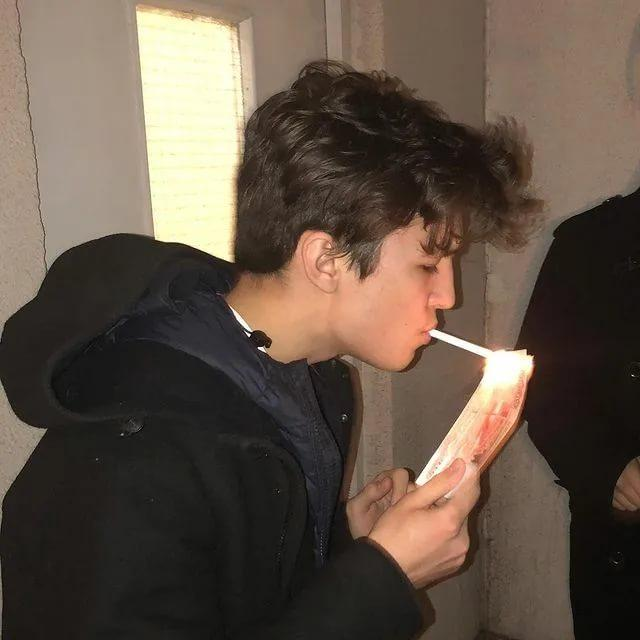cigarette: (424, 325, 513, 364)
